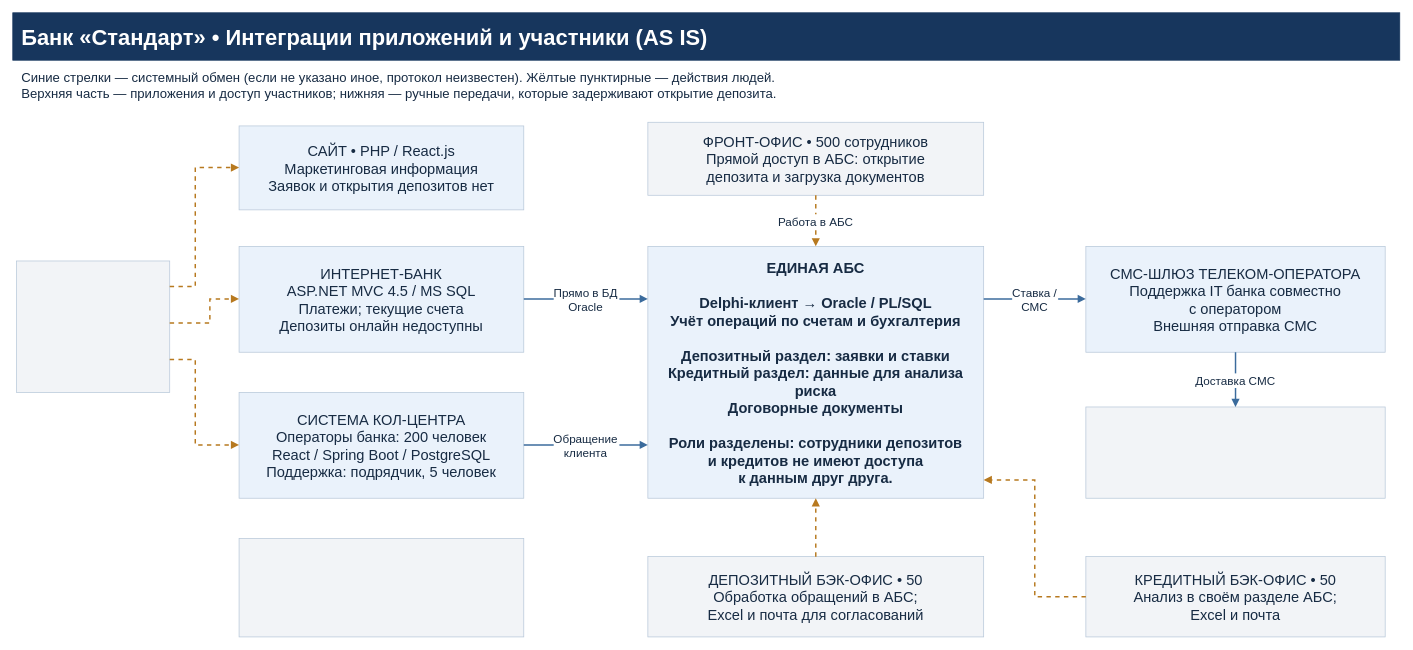
The diagram is 1413 pixels wide and 650 high, and some of its shapes have lost their labels. Here are the shapes that lost their labels. From the top down, the centre of each, then its label:
At (93,326): "КЛИЕНТ Сайт, интернет-банк, звонок, визит".
At (1235,452): "КЛИЕНТ • ПОЛУЧАТЕЛЬ СМС Согласованная ставка и приглашение в отделение".
At (381,587): "ВНЕШНЯЯ СИСТЕМА ПАРТНЁРА 100 операторов; скрипты бизнеса Отдельная компания.".
